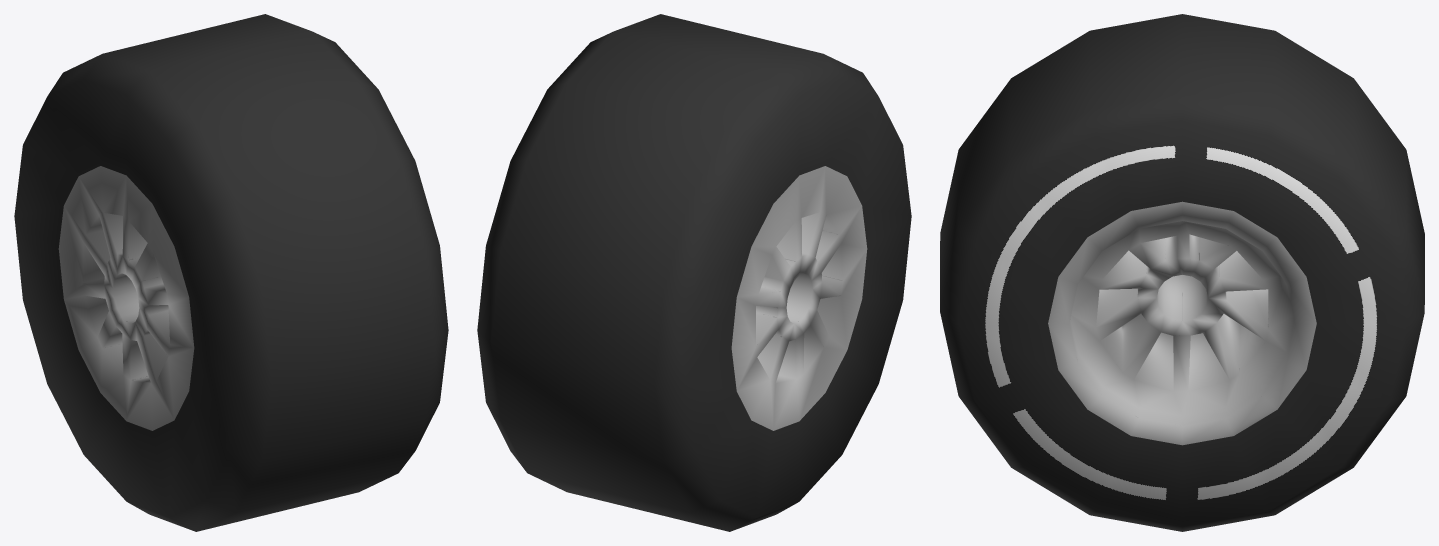
3 views of the same model, side by side, from view 1: azimuth 30°, elevation 25°; view 2: azimuth 150°, elevation 25°; view 3: azimuth 270°, elevation 25° (orthographic).
Parts seen in each view (by area): view 1: Tyre; view 2: Tyre; view 3: Tyre.
Boxes of the visible parts, left/top/right/bottom form: Tyre: left=14, top=14, right=448, bottom=531; Tyre: left=477, top=14, right=911, bottom=531; Tyre: left=940, top=14, right=1424, bottom=531.
Bounding box in the file's own units: 0.3259 × 0.6605 × 0.6606.
1 material, 1 textured.
